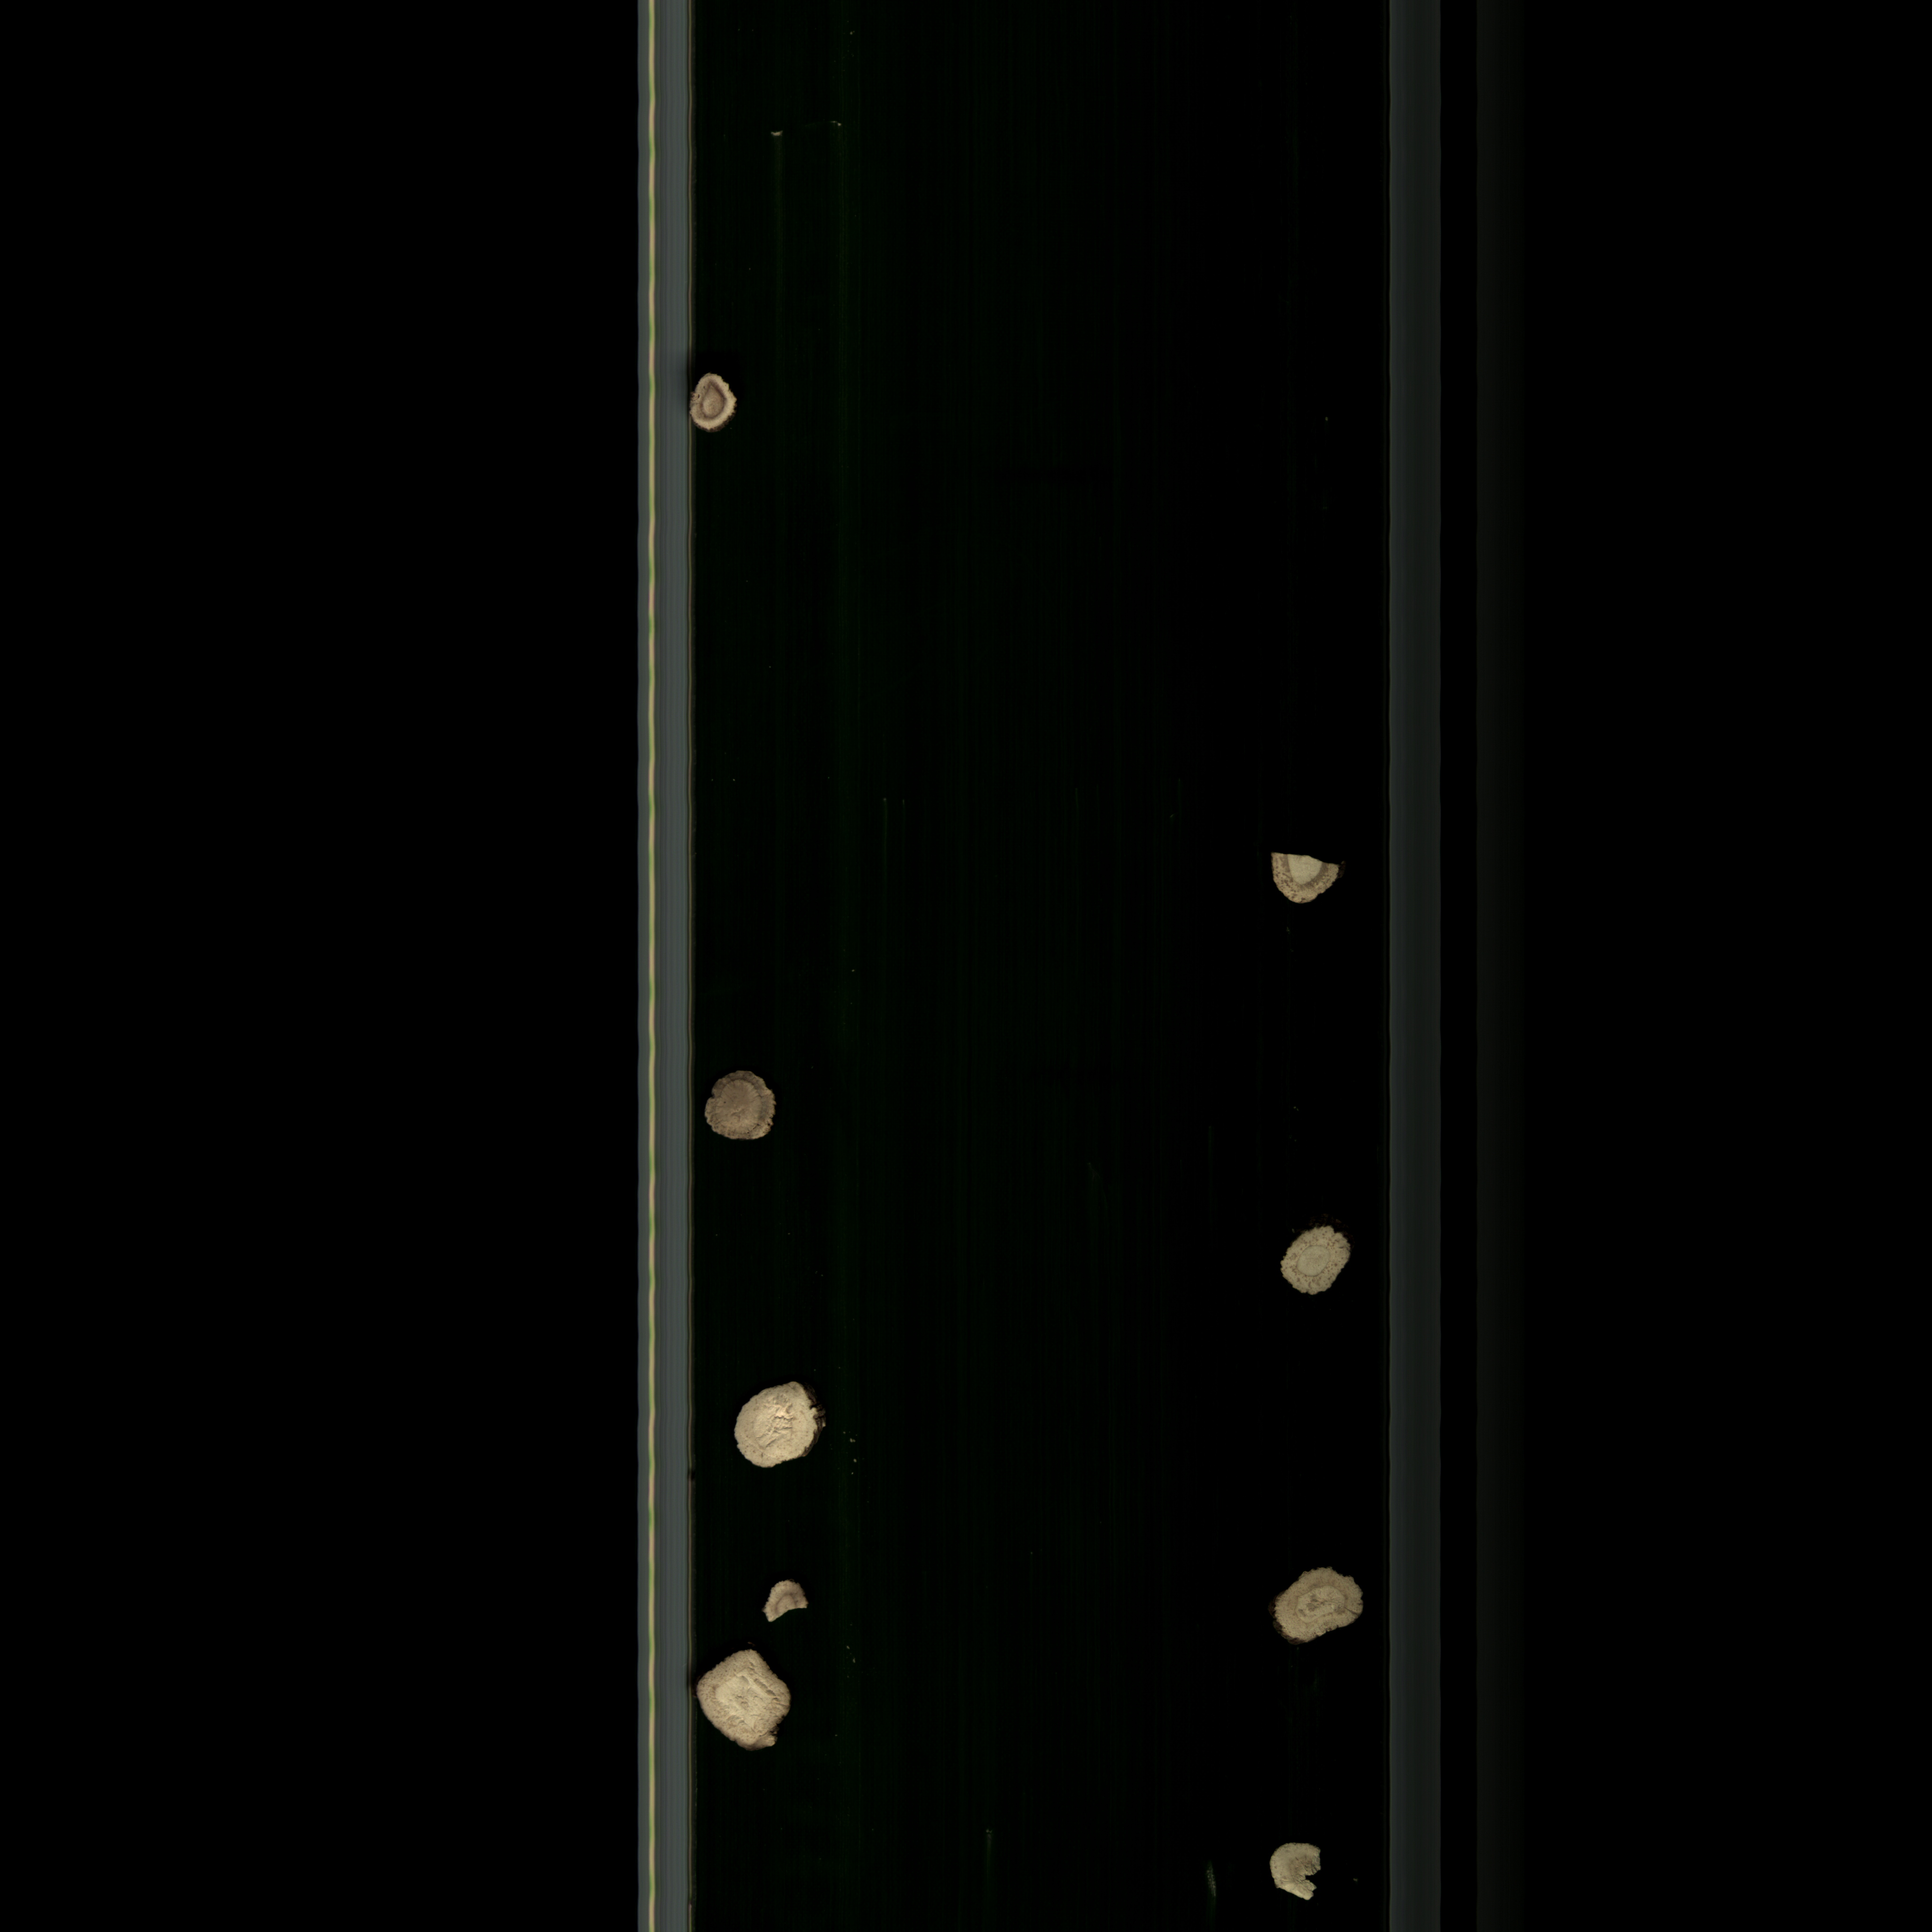debris: (1263, 1835, 1327, 1905)
distortion: (686, 1638, 801, 1760), (1254, 1559, 1375, 1656)
dreg: (759, 1580, 826, 1626)
moldy: (699, 1065, 791, 1150), (1258, 840, 1352, 916), (683, 366, 755, 448)
